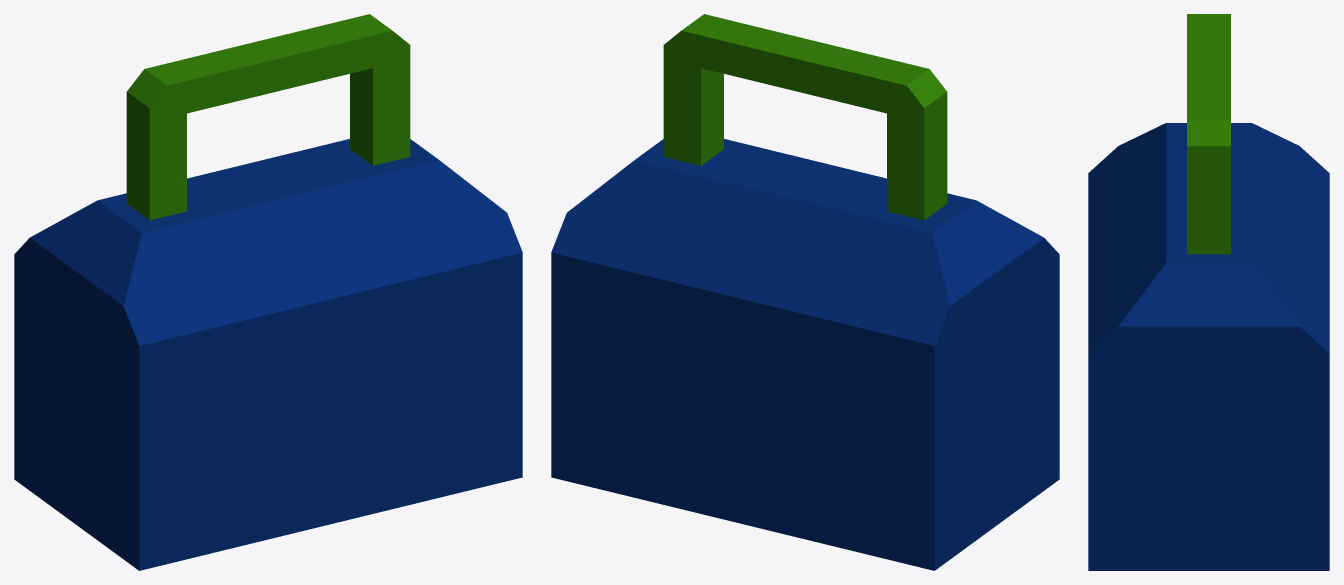
Rendered from vb_medkit.fbx.
3 renders of one model, left to right at view 1: azimuth 30°, elevation 25°; view 2: azimuth 150°, elevation 25°; view 3: azimuth 270°, elevation 25°, orthographic. The views are drawn at different scales.
Visible parts, largest first — view 1: Cube; view 2: Cube; view 3: Cube.
Part boxes in pixels (bbox=[...]): Cube: bbox=[14, 14, 522, 570]; Cube: bbox=[551, 14, 1059, 570]; Cube: bbox=[1088, 14, 1329, 570].
Size of the model in its own units: 1.05 by 1.12 by 0.5921.
